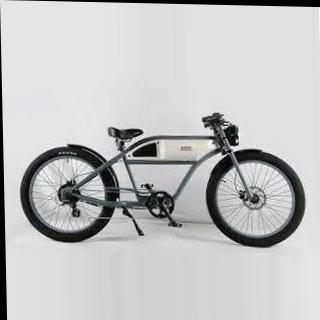Bike: (16, 107, 308, 250)
